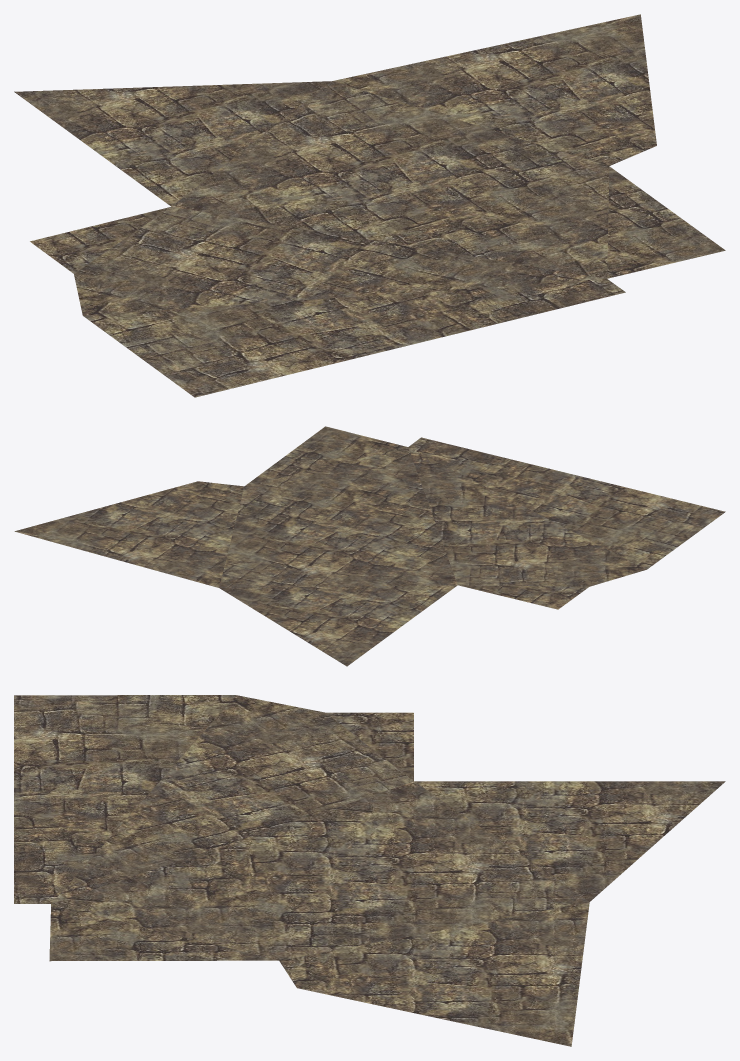
The model's file is fort_medium_footprint.fbx.
The picture shows the model from 3 angles, top to bottom: view 1: azimuth 30°, elevation 25°; view 2: azimuth 150°, elevation 25°; view 3: azimuth 270°, elevation 25°; orthographic projection. The views are drawn at different scales.
Parts seen in each view (by area): view 1: footprint; view 2: footprint; view 3: footprint.
Part boxes in pixels (bbox=[...]): footprint: bbox=[14, 14, 725, 397]; footprint: bbox=[14, 426, 725, 666]; footprint: bbox=[14, 695, 725, 1046].
Bounding box in the file's own units: 49238 × 28.5 × 42071.
1 material, 1 textured.
